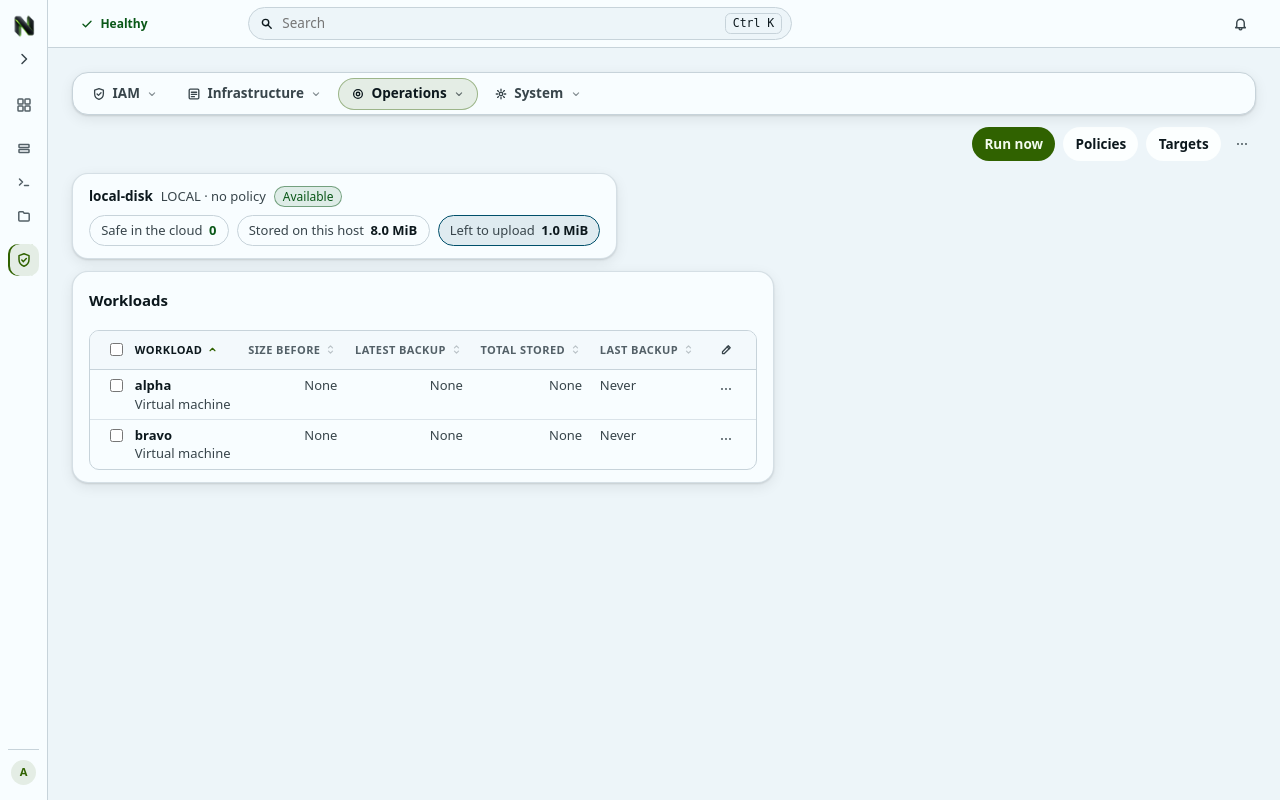
Test: Backups page › selects every workload and backs the selection up in one go
Click the checkbox named "select every workload": (116, 350) [110, 343, 123, 356]
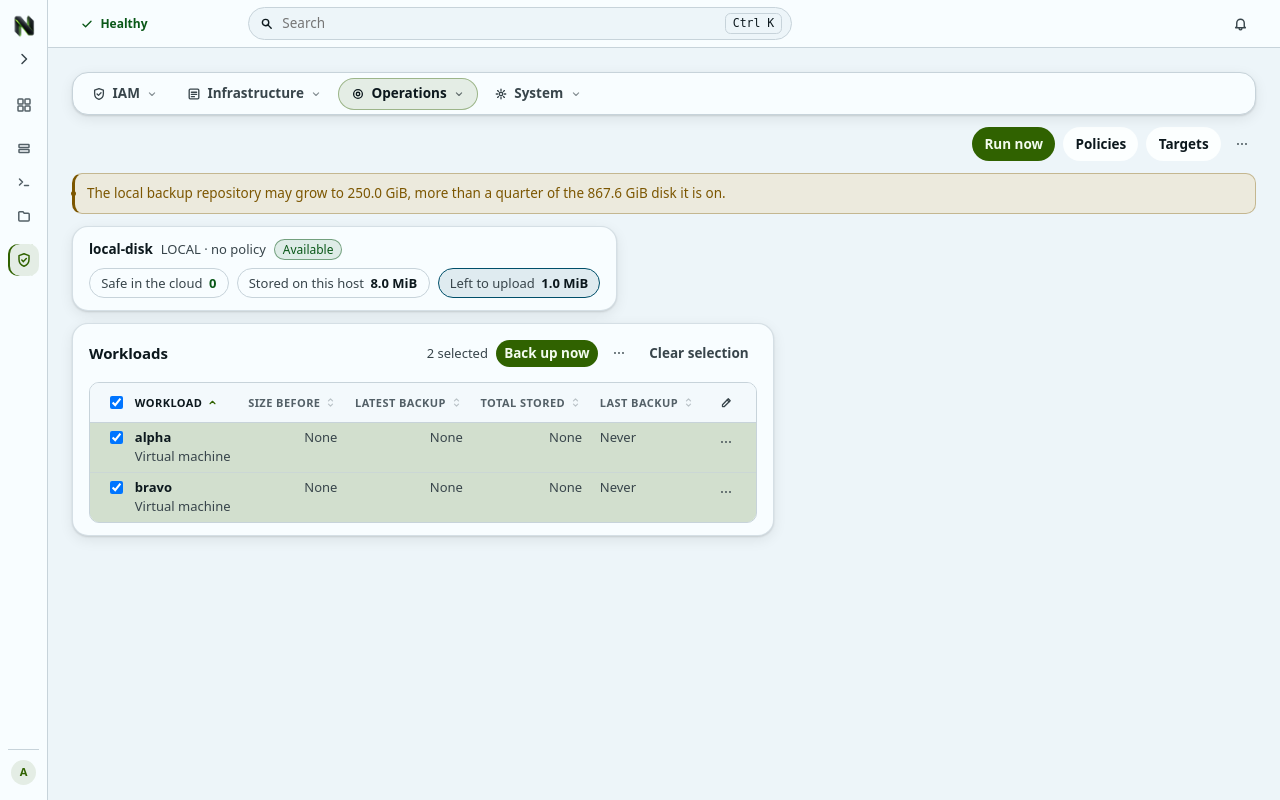
Check: the checkbox named "select alpha" is checked, box [110, 432, 123, 444]
Check: the checkbox named "select bravo" is checked, box [110, 481, 123, 494]
Check: the element named "selected workloads" shows "2 selected", box [427, 340, 757, 367]
Click the button "Back up now": (547, 354) [496, 340, 598, 367]
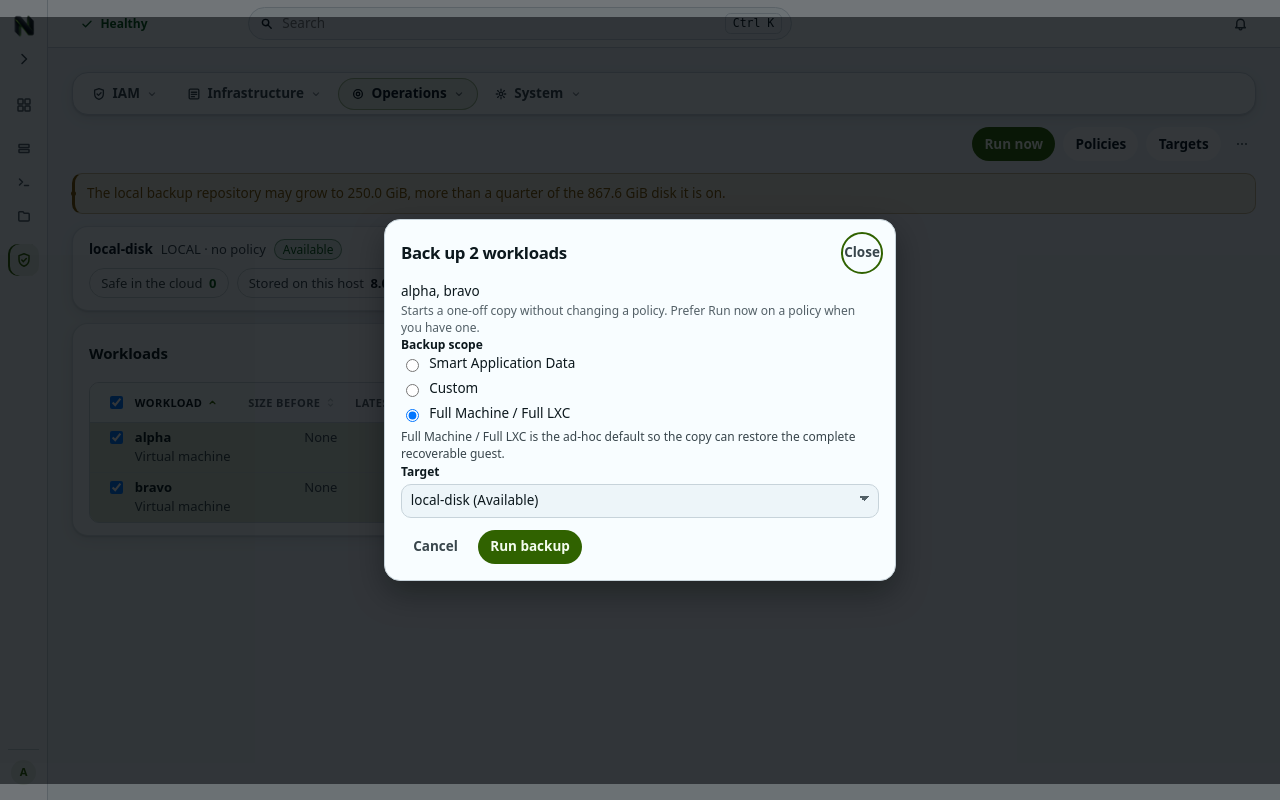
Check: the dropdown labelled "Target" shows "local-disk (Available)", box [401, 484, 879, 518]
Click the button "Run backup": (530, 547) [478, 530, 582, 564]
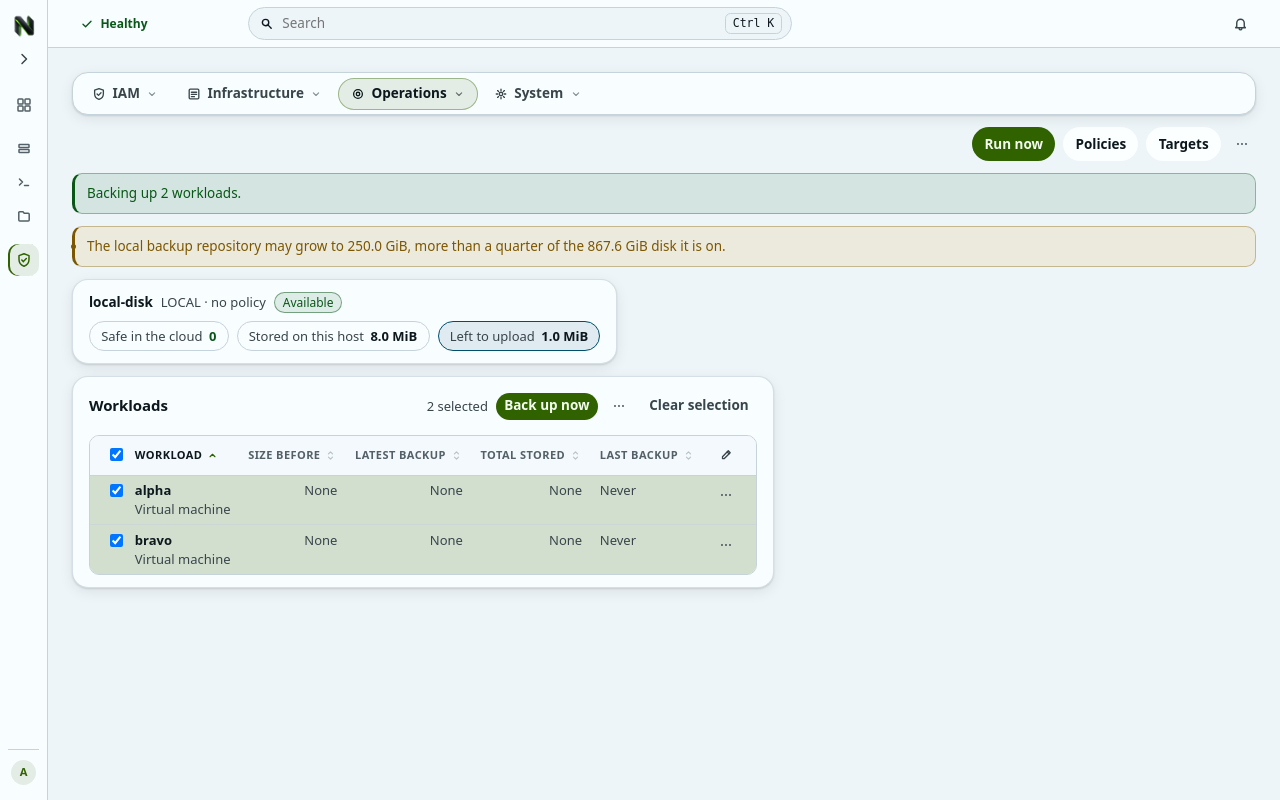
Check: the text "Backing up 2 workloads." is shown, box [72, 173, 1256, 214]
# Unticking one leaves a partial selection.
Click the checkbox named "select bravo": (116, 541) [110, 534, 123, 547]
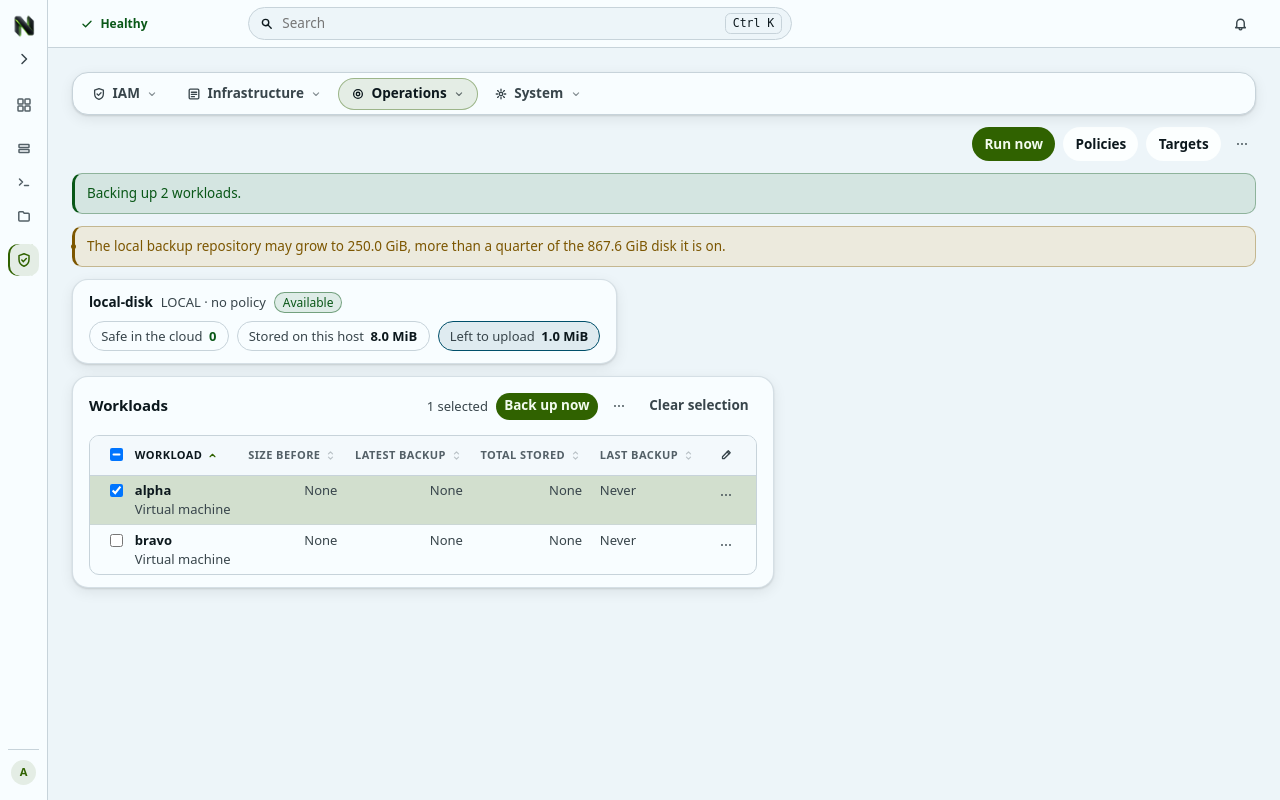
Check: the checkbox named "select every workload" is not checked, box [110, 448, 123, 462]
Check: the element named "selected workloads" shows "1 selected", box [427, 393, 757, 420]
